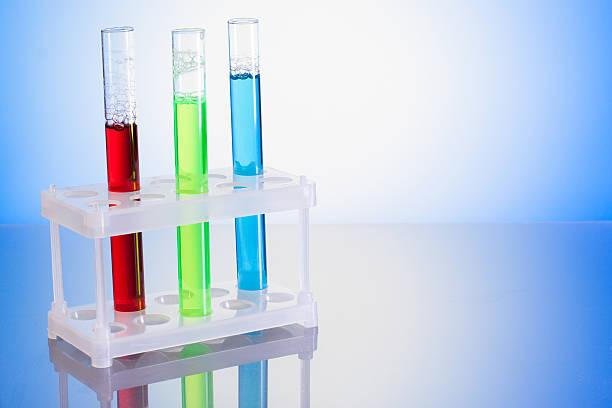Test tube: (88, 15, 154, 309), (163, 14, 217, 314), (227, 16, 276, 294)
